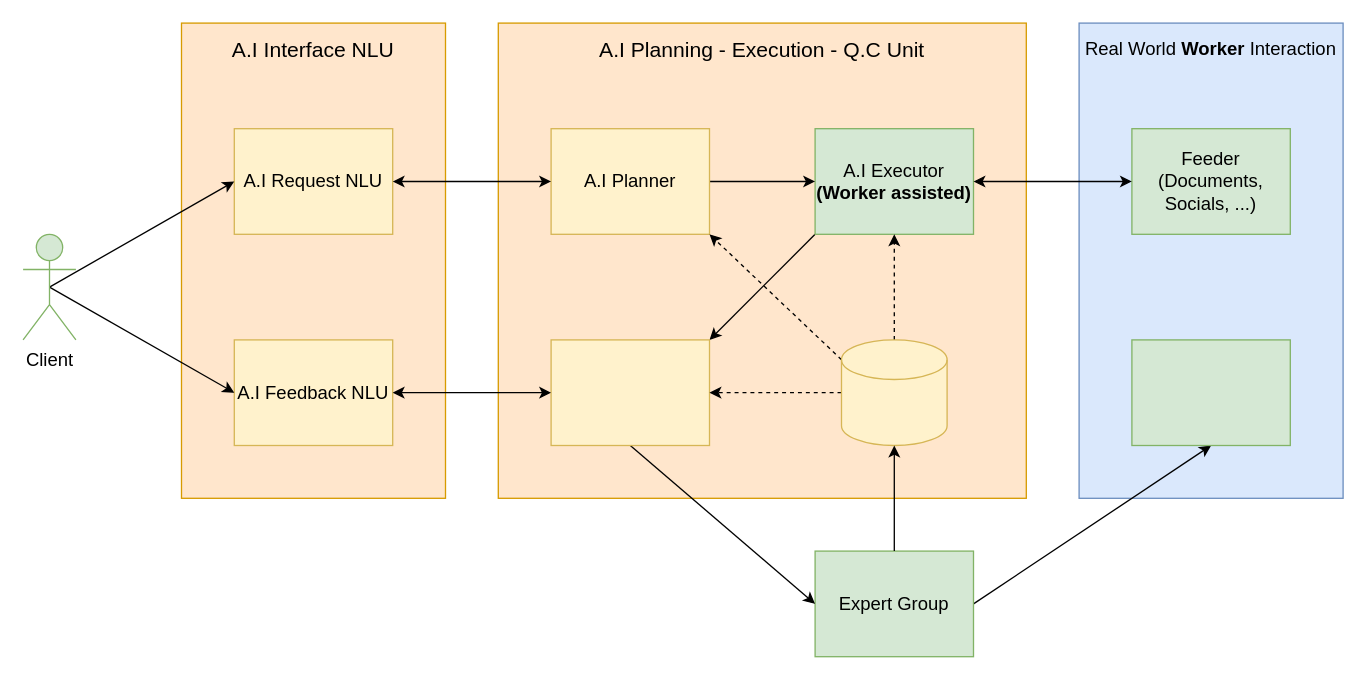
The diagram is 1366 pixels wide and 680 high, and some of its shapes have lost their labels. The centre of each missing label's shape, as x and y in pixels:
A.I Quality Control: point (630, 392)
Assistant (Reports, Calls, ...): point (1210, 392)
SKILLS.md: point (893, 392)
